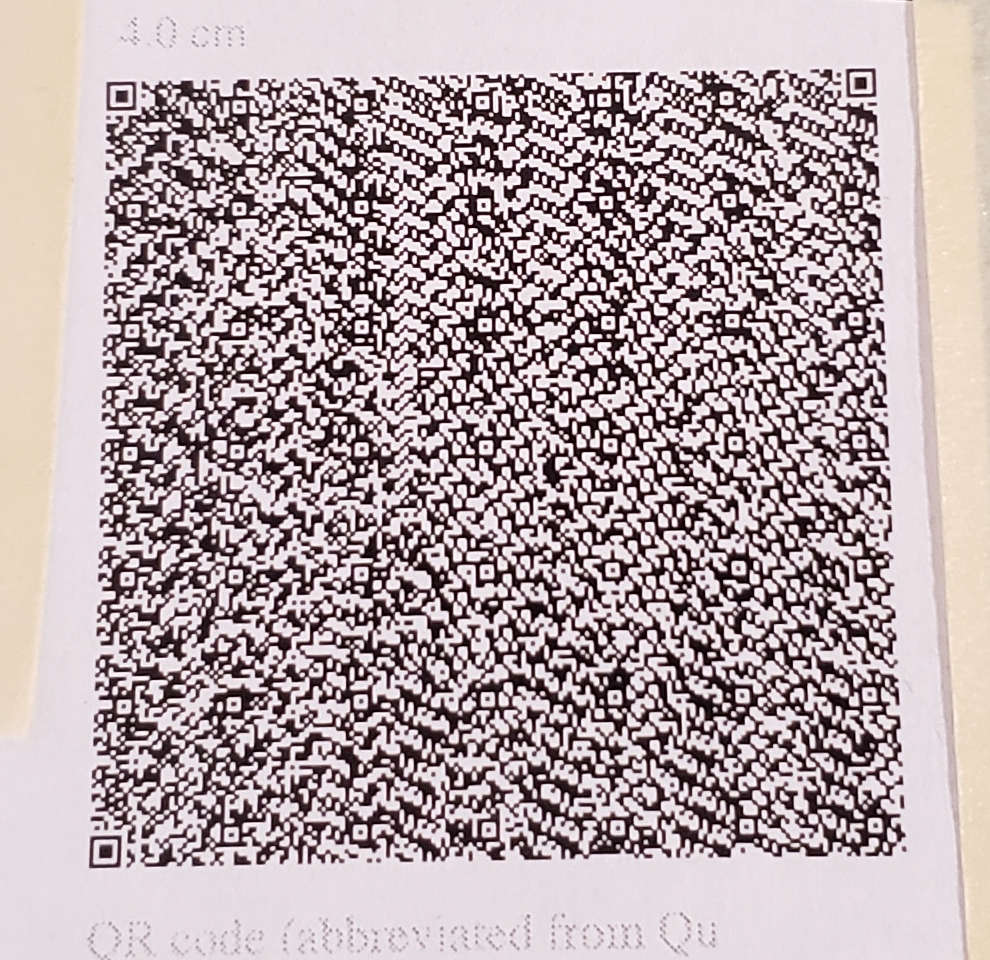QR_CODE: (65, 40, 941, 896)
